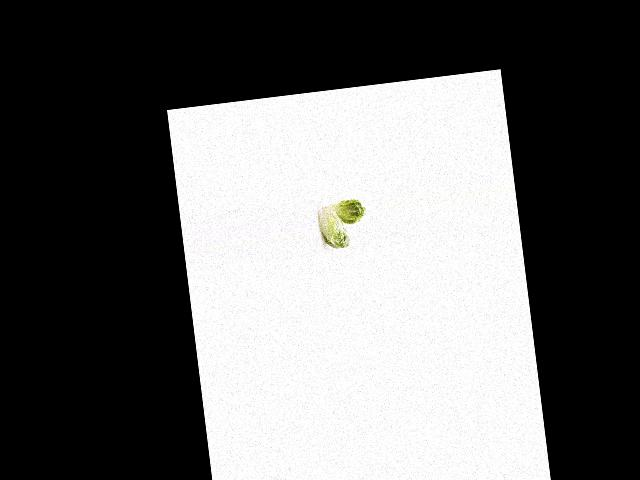lettuce: (315, 201, 353, 253)
